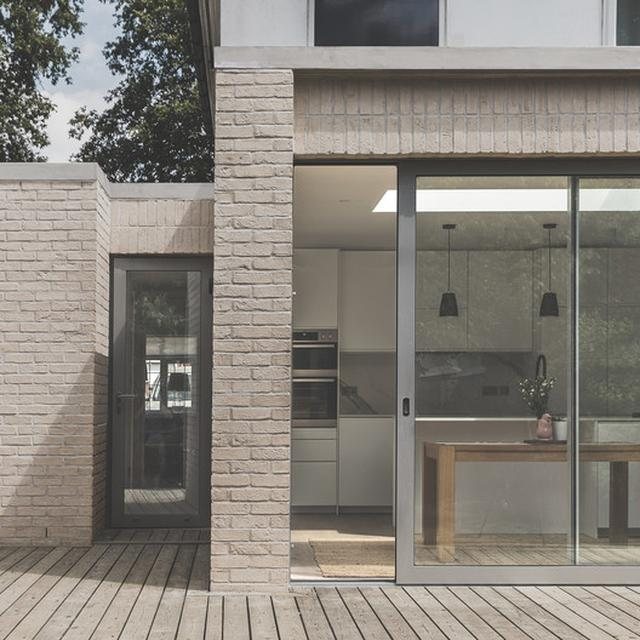building: (195, 0, 640, 598), (0, 158, 207, 546)
